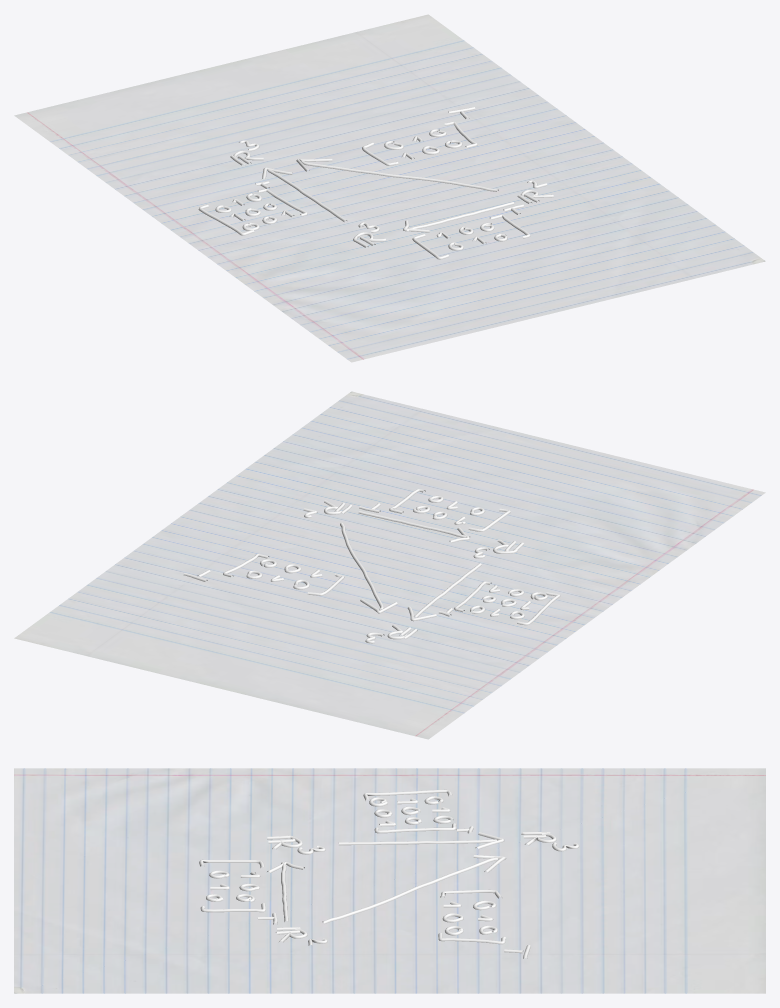
The model's file is notebook_dual.glb.
3 renders of one model, top to bottom at view 1: azimuth 30°, elevation 25°; view 2: azimuth 150°, elevation 25°; view 3: azimuth 270°, elevation 25°, orthographic. The views are drawn at different scales.
Visible parts, largest first — view 1: Paper, Drawing; view 2: Paper, Drawing; view 3: Paper, Drawing.
Part boxes in pixels (box(x1,y1,x2,y2)): Paper: box(14, 14, 765, 362); Drawing: box(198, 107, 553, 259); Paper: box(14, 391, 765, 739); Drawing: box(183, 489, 560, 643); Paper: box(14, 768, 765, 993); Drawing: box(199, 789, 579, 958).
Bounding box in the file's own units: 2 × 0.017 × 2.82.
Materials: 2 (1 with a texture image).
